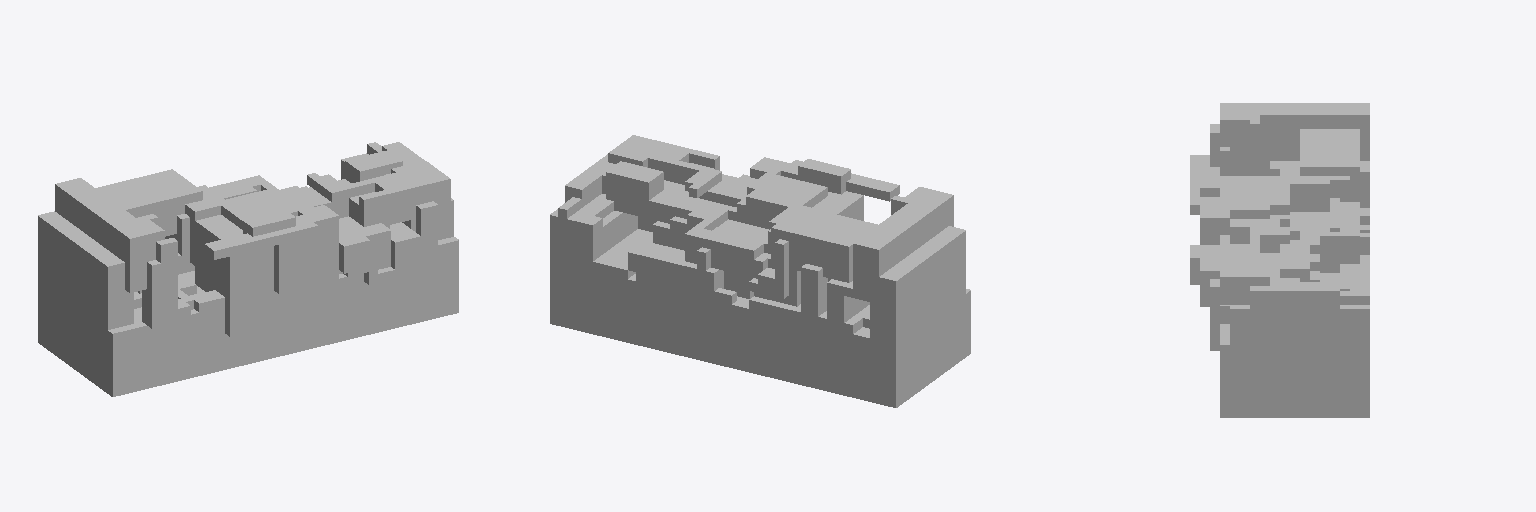
Rendered from outter tiel-123.obj.
3 renders of one model, left to right at view 1: azimuth 30°, elevation 25°; view 2: azimuth 150°, elevation 25°; view 3: azimuth 270°, elevation 25°, orthographic.
Visible parts, largest first — view 1: outter tiel-123; view 2: outter tiel-123; view 3: outter tiel-123.
Boxes of the visible parts, x1=… form: outter tiel-123: x1=38, y1=142, x2=458, y2=396; outter tiel-123: x1=550, y1=135, x2=970, y2=407; outter tiel-123: x1=1190, y1=103, x2=1369, y2=417.
Bounding box in the file's own units: 40 × 17 × 18.